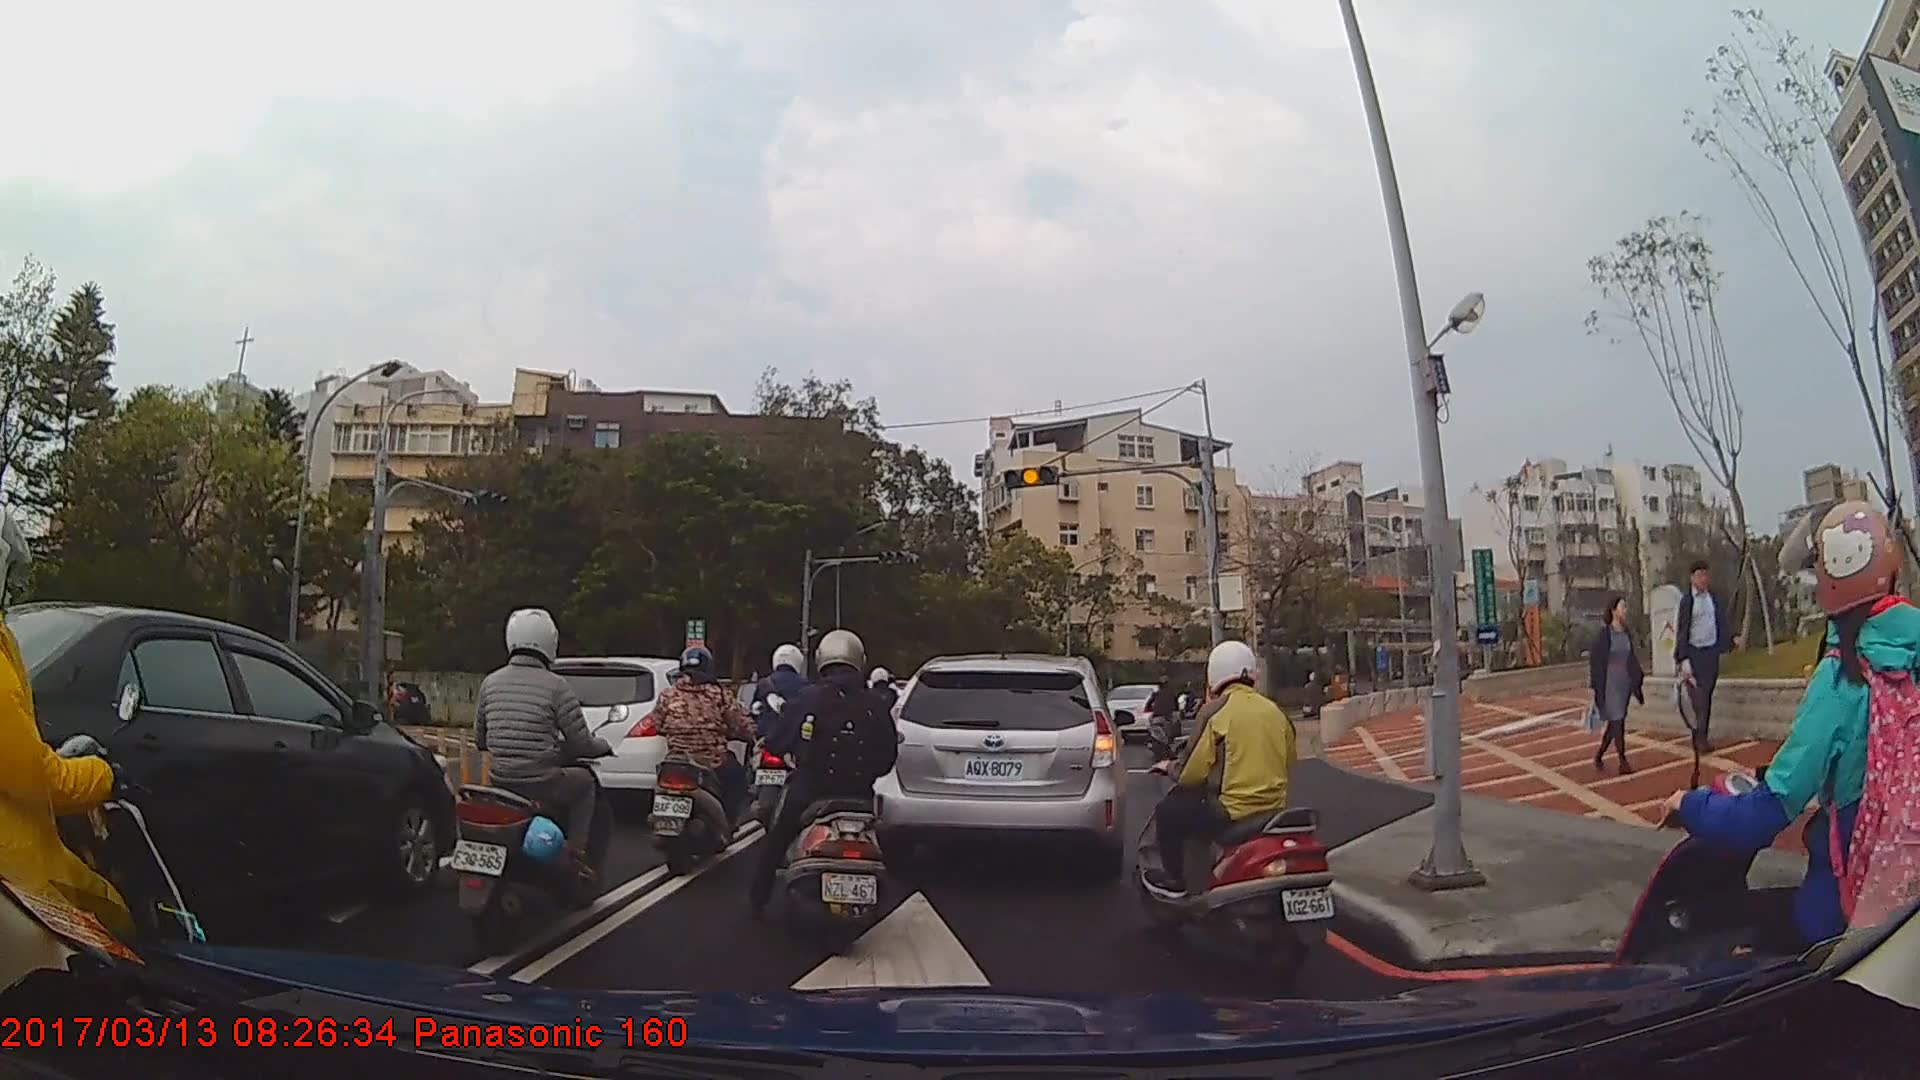pedestrian: (1574, 594, 1646, 777), (1671, 561, 1734, 753)
rider: (1621, 498, 1903, 1075), (1133, 641, 1337, 980), (447, 607, 618, 952), (757, 629, 903, 957), (647, 646, 758, 874), (743, 638, 831, 842), (1143, 674, 1177, 760)
vehicle: (0, 601, 457, 949), (874, 652, 1128, 871), (518, 655, 760, 818), (1098, 681, 1180, 745), (357, 680, 425, 725)
